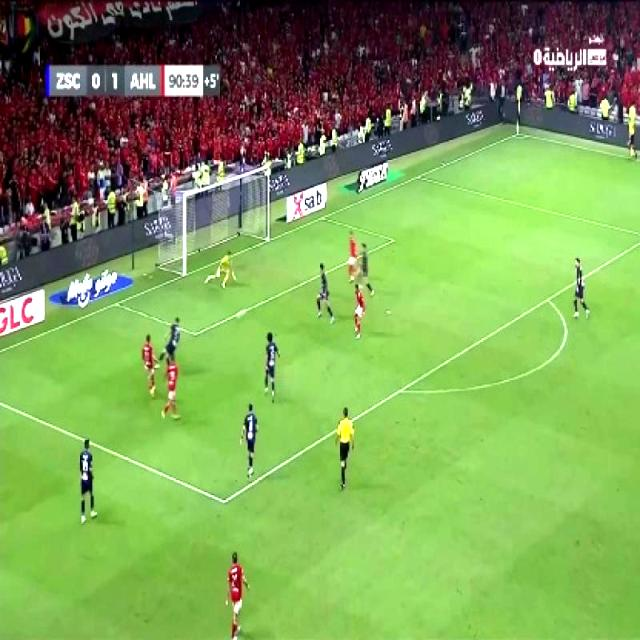bigarea_bottom_inner: (215, 489, 232, 514)
bigarea_top_outter: (415, 172, 423, 182)
bottom_arc_area_intersection: (392, 380, 408, 400)
corner: (512, 128, 523, 136)
smallarea_bottom_inner: (188, 325, 202, 343)
smallarea_bottom_outter: (112, 296, 122, 310)
smallarea_top_inner: (386, 232, 397, 245)
top_arc_area_intersection: (541, 290, 554, 308)
